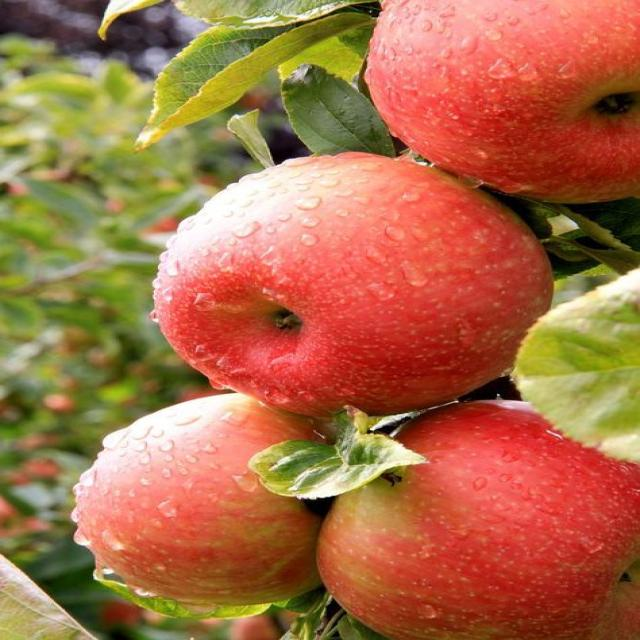Tao: (154, 156, 539, 413), (318, 399, 634, 634), (73, 393, 335, 604), (368, 4, 634, 202)
